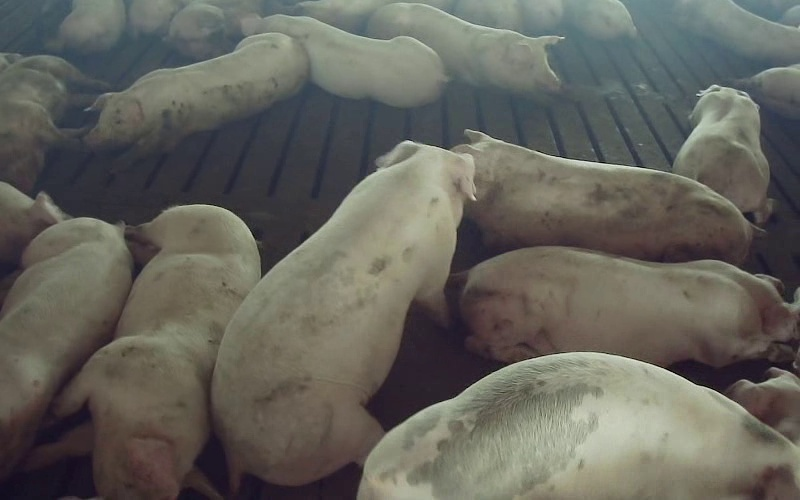pig: (211, 141, 474, 485), (23, 205, 259, 499), (358, 353, 799, 499), (460, 247, 796, 366), (453, 130, 752, 263), (0, 218, 132, 480), (84, 33, 308, 169), (242, 15, 447, 106), (367, 3, 561, 92), (0, 55, 107, 192), (672, 85, 771, 223)
